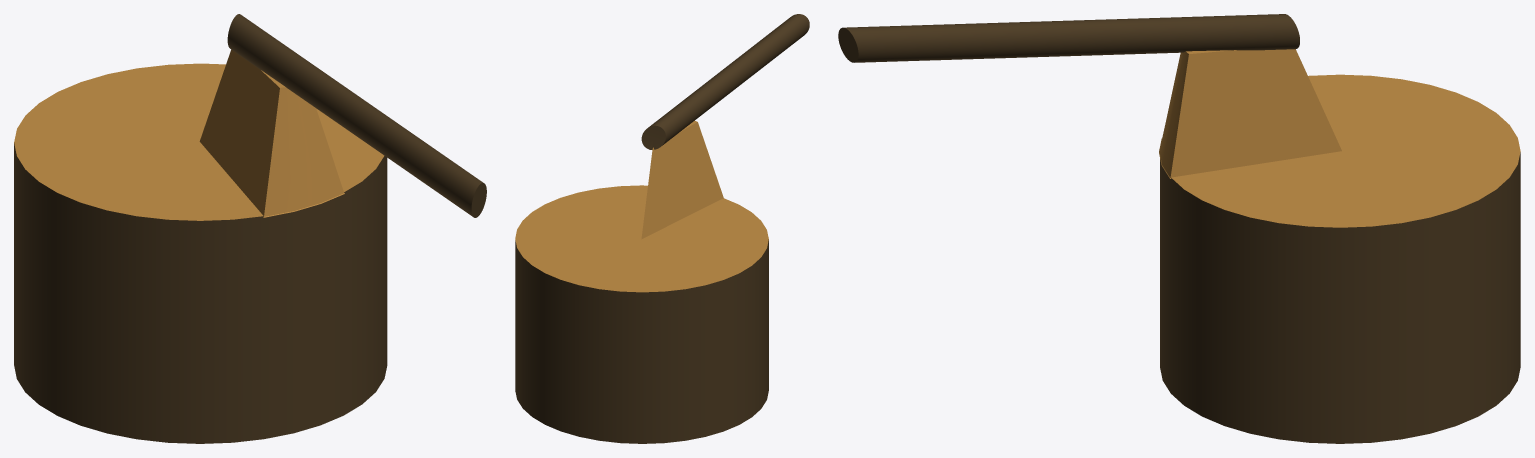
The model's file is axeinlog2.fbx.
The picture shows the model from 3 angles, left to right: view 1: azimuth 30°, elevation 25°; view 2: azimuth 150°, elevation 25°; view 3: azimuth 270°, elevation 25°; orthographic projection. The views are drawn at different scales.
Visible parts, largest first — view 1: Cylinder, Cylinder_1; view 2: Cylinder, Cylinder_1; view 3: Cylinder, Cylinder_1.
Part boxes in pixels (box(x1,y1,x2,y2)): Cylinder: box(14, 49, 387, 443); Cylinder_1: box(227, 14, 486, 217); Cylinder: box(515, 120, 768, 443); Cylinder_1: box(641, 14, 809, 149); Cylinder: box(1159, 49, 1520, 443); Cylinder_1: box(838, 14, 1299, 62).
Bounding box in the file's own units: 350 × 380 × 658.
